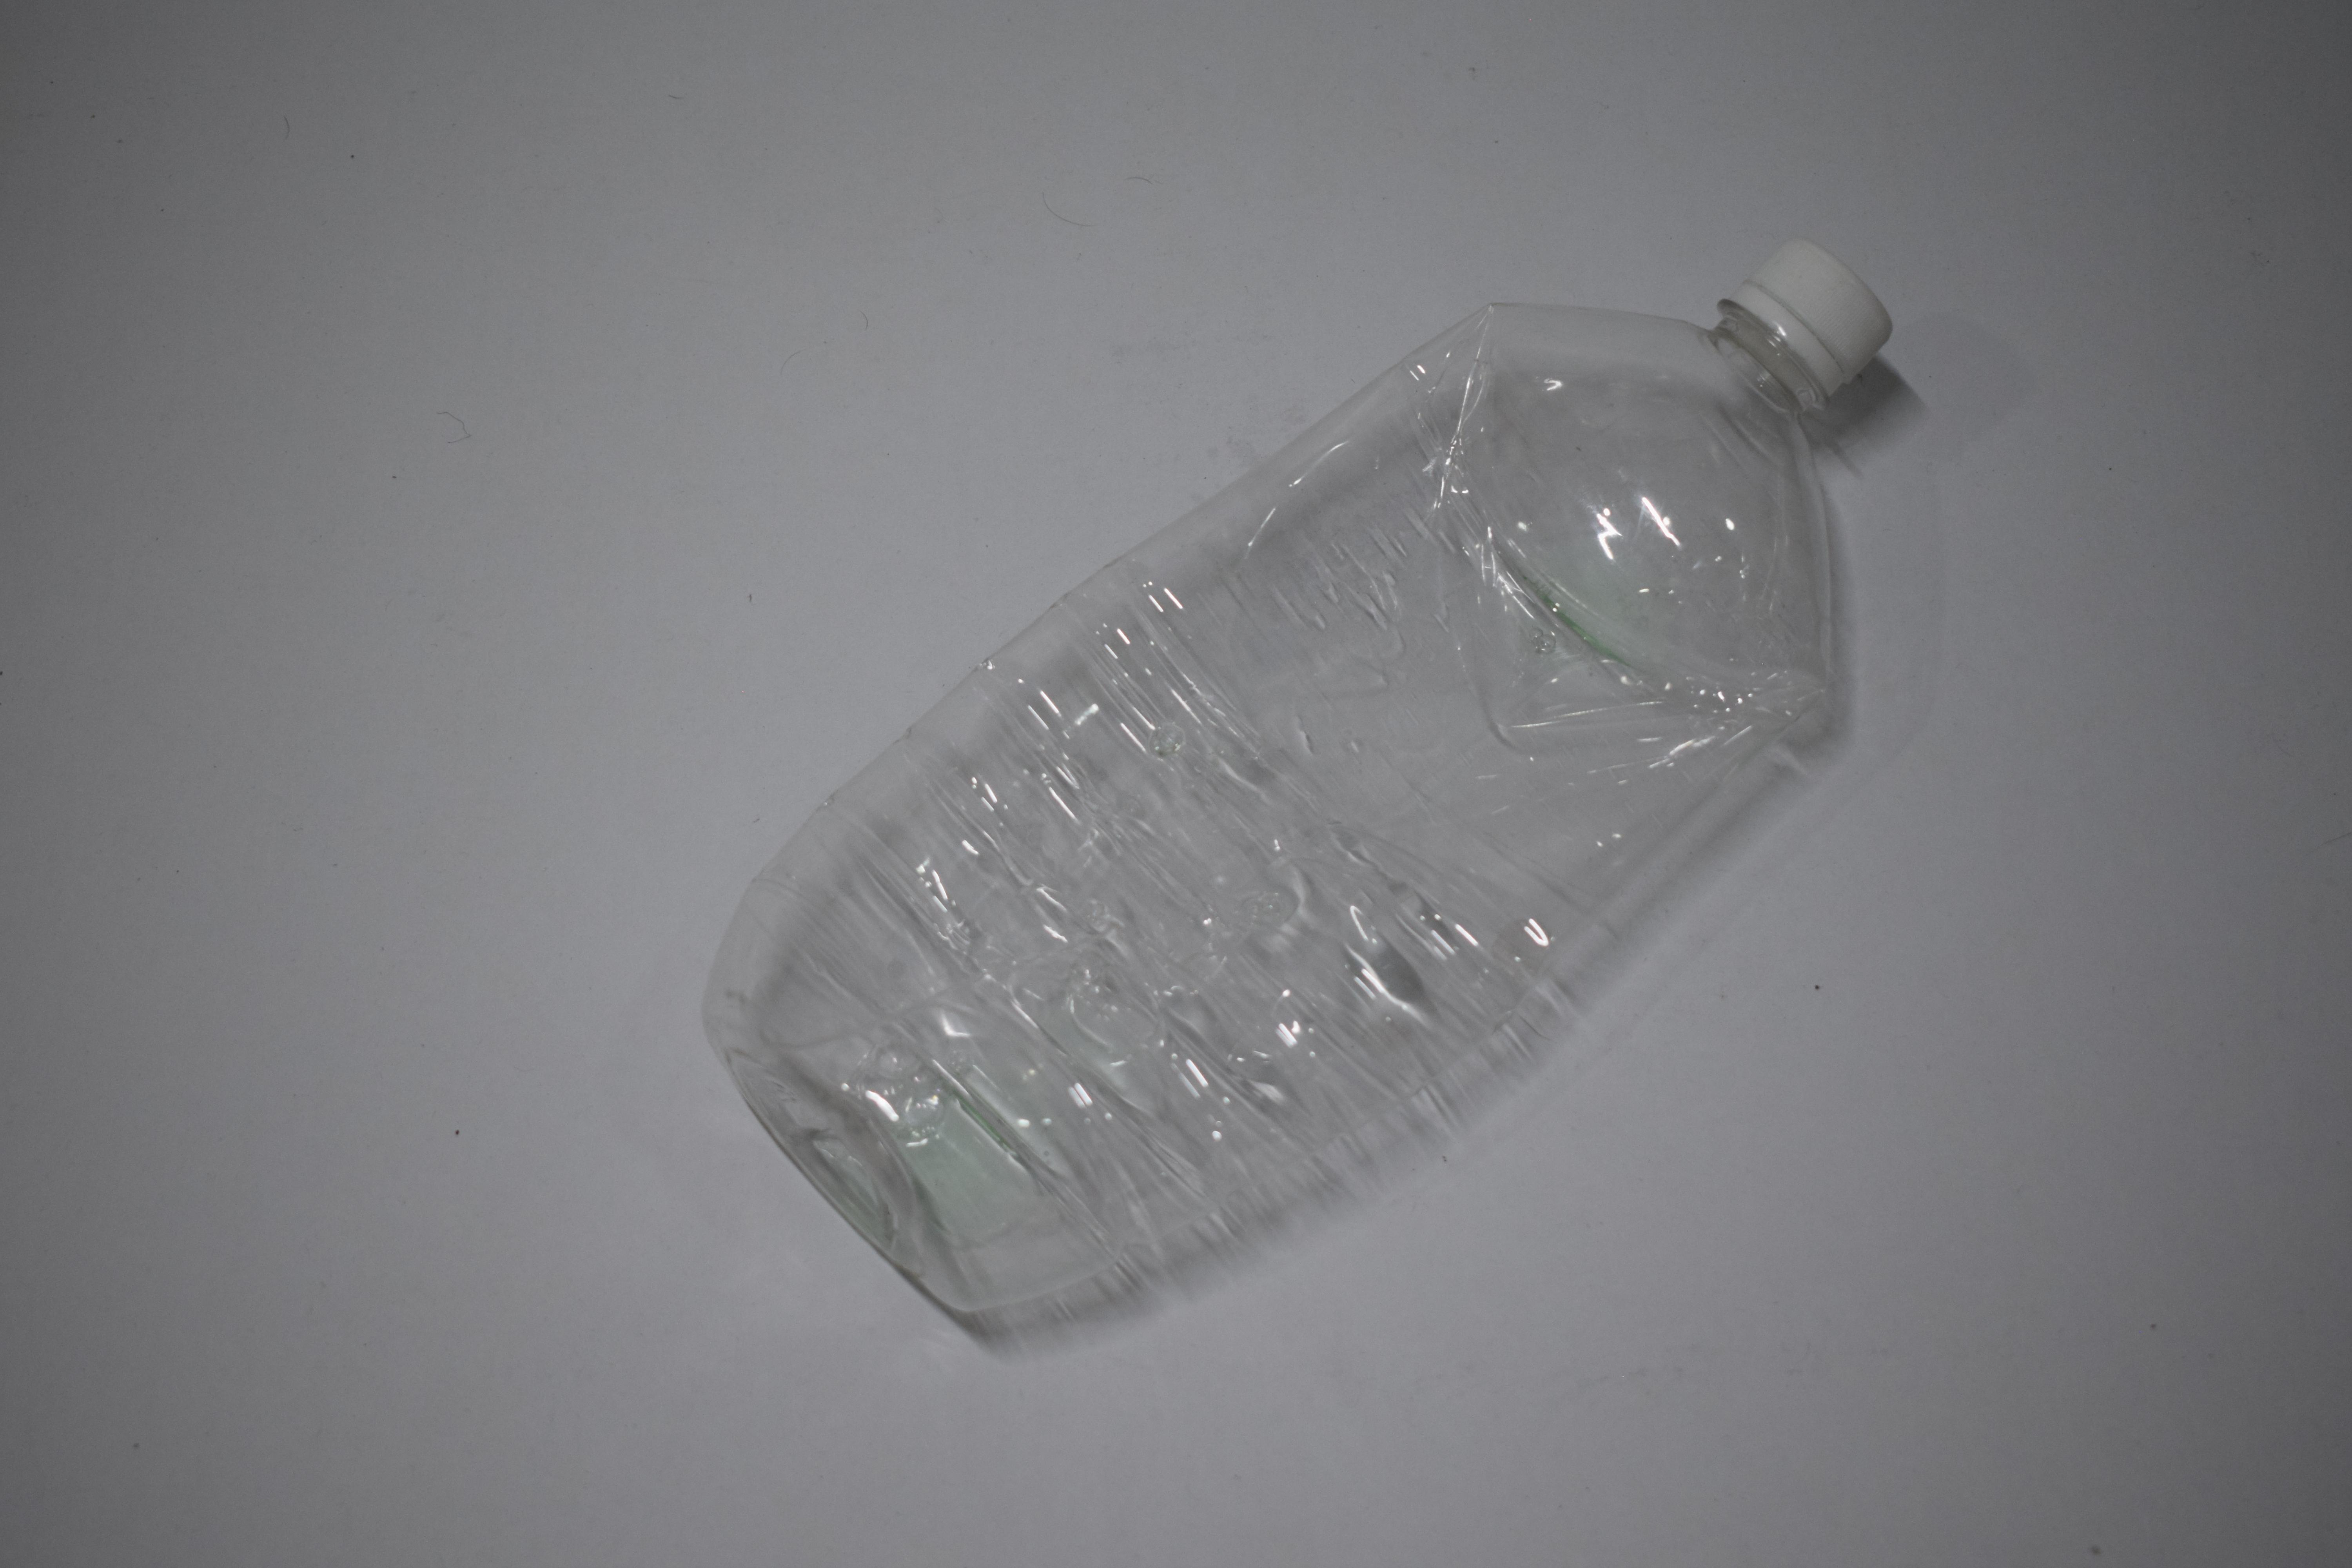bottle: (0, 228, 23, 1328)
